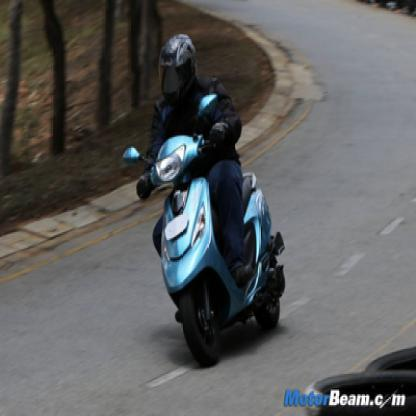Helmet: (148, 29, 202, 102)
